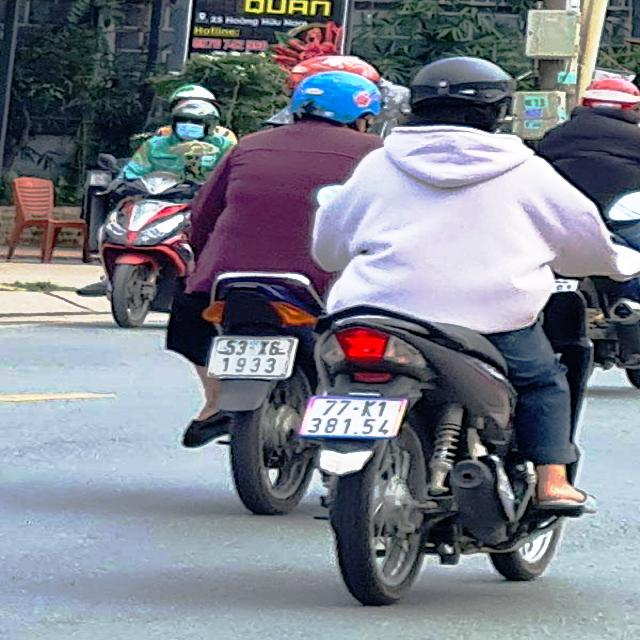license_plate: (305, 398, 405, 438), (209, 338, 297, 380)
